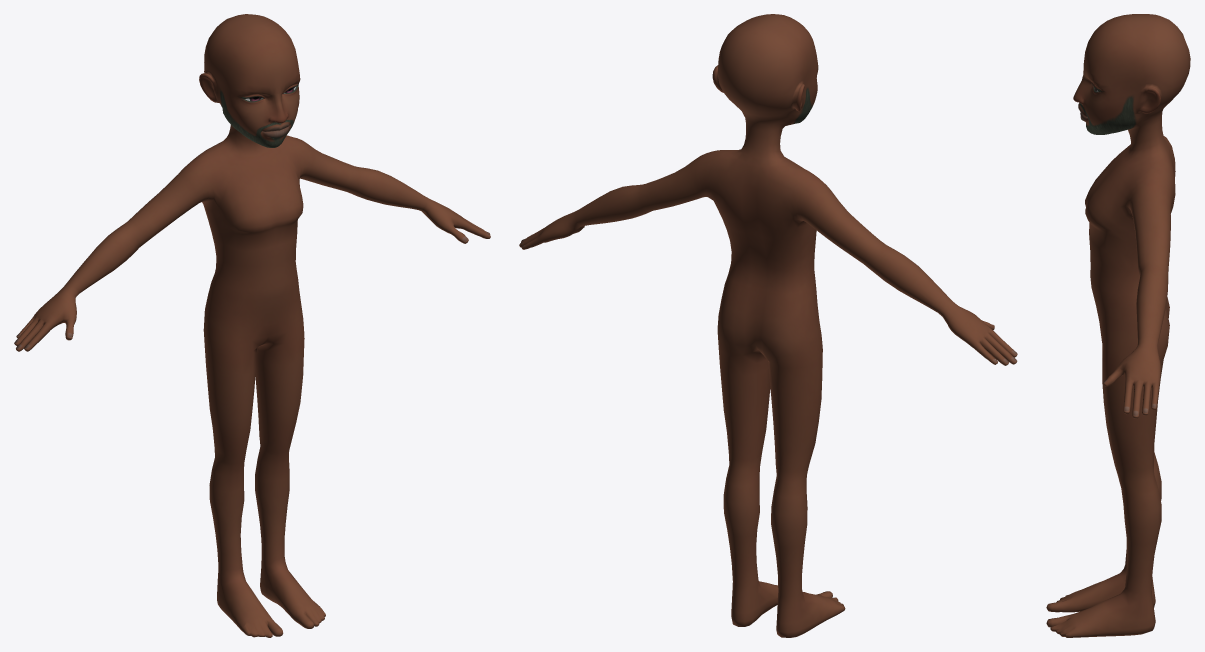
The model's file is frame_0029.glb.
3 renders of one model, left to right at view 1: azimuth 30°, elevation 25°; view 2: azimuth 150°, elevation 25°; view 3: azimuth 270°, elevation 25°, orthographic. The views are drawn at different scales.
Parts seen in each view (by area): view 1: frame_0029_head_geo; view 2: frame_0029_head_geo; view 3: frame_0029_head_geo.
Boxes of the visible parts, x1,y1,x2,y2 form: frame_0029_head_geo: (14, 14, 490, 637); frame_0029_head_geo: (519, 14, 1017, 637); frame_0029_head_geo: (1046, 14, 1190, 637).
Size of the model in its own units: 1.28 by 1.5 by 0.3253.
3 materials, 3 textured.
